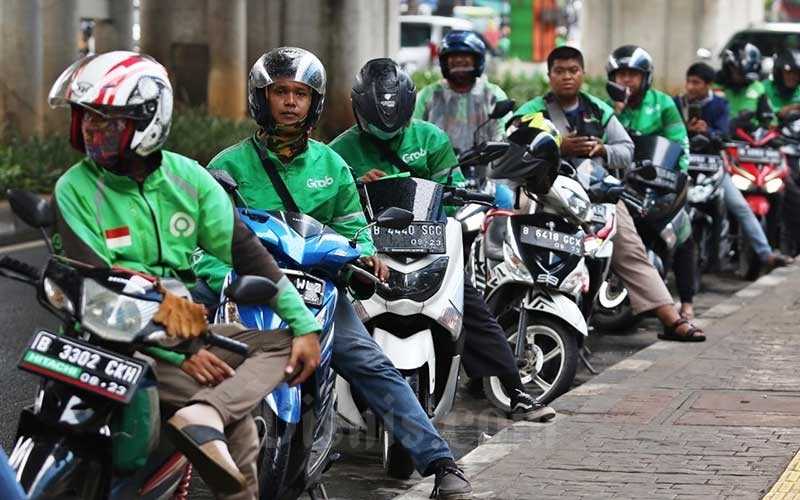plate: (25, 327, 136, 401), (371, 222, 444, 255), (520, 223, 584, 254), (278, 269, 327, 308), (737, 146, 783, 167), (683, 153, 719, 174)
